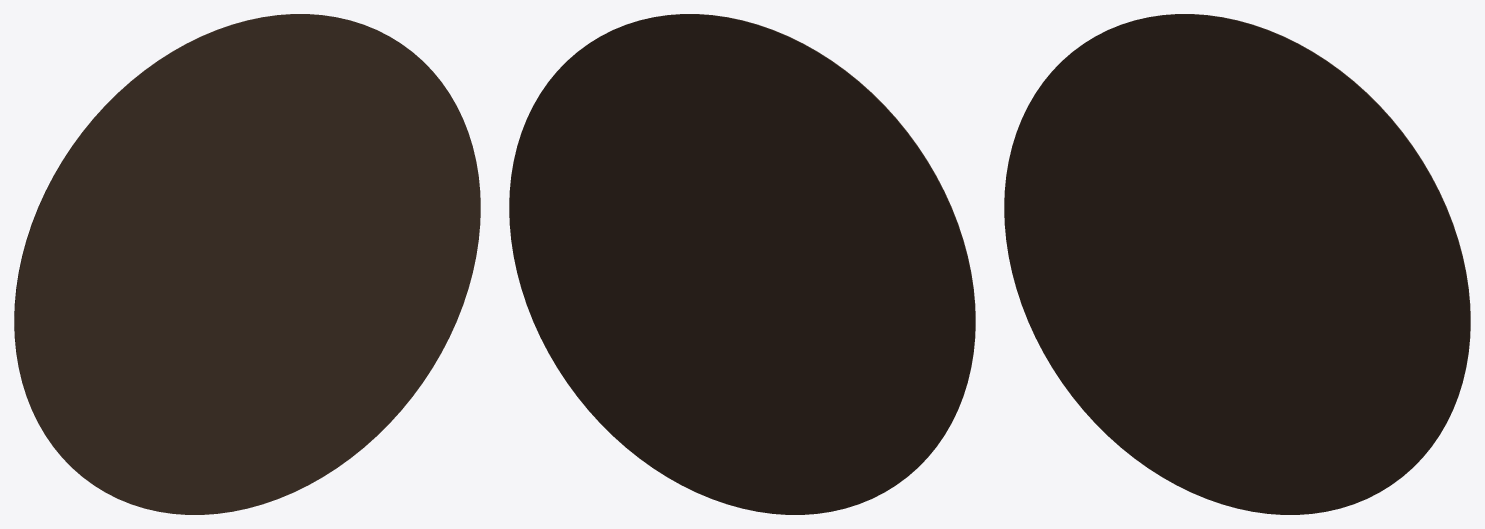
The model's file is tape_pack.glb.
3 views of the same model, side by side, from view 1: azimuth 30°, elevation 25°; view 2: azimuth 150°, elevation 25°; view 3: azimuth 330°, elevation 25° (orthographic).
Parts seen in each view (by area): view 1: tape_pack; view 2: tape_pack; view 3: tape_pack.
Part boxes in pixels (<box>): tape_pack: <box>14,14,480,514</box>; tape_pack: <box>509,14,975,514</box>; tape_pack: <box>1004,14,1470,514</box>.
Bounding box in the file's own units: 2 × 2 × 0.00361.
